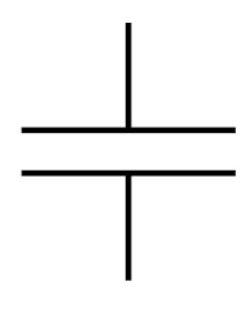Capacitor: (5, 91, 241, 202)
